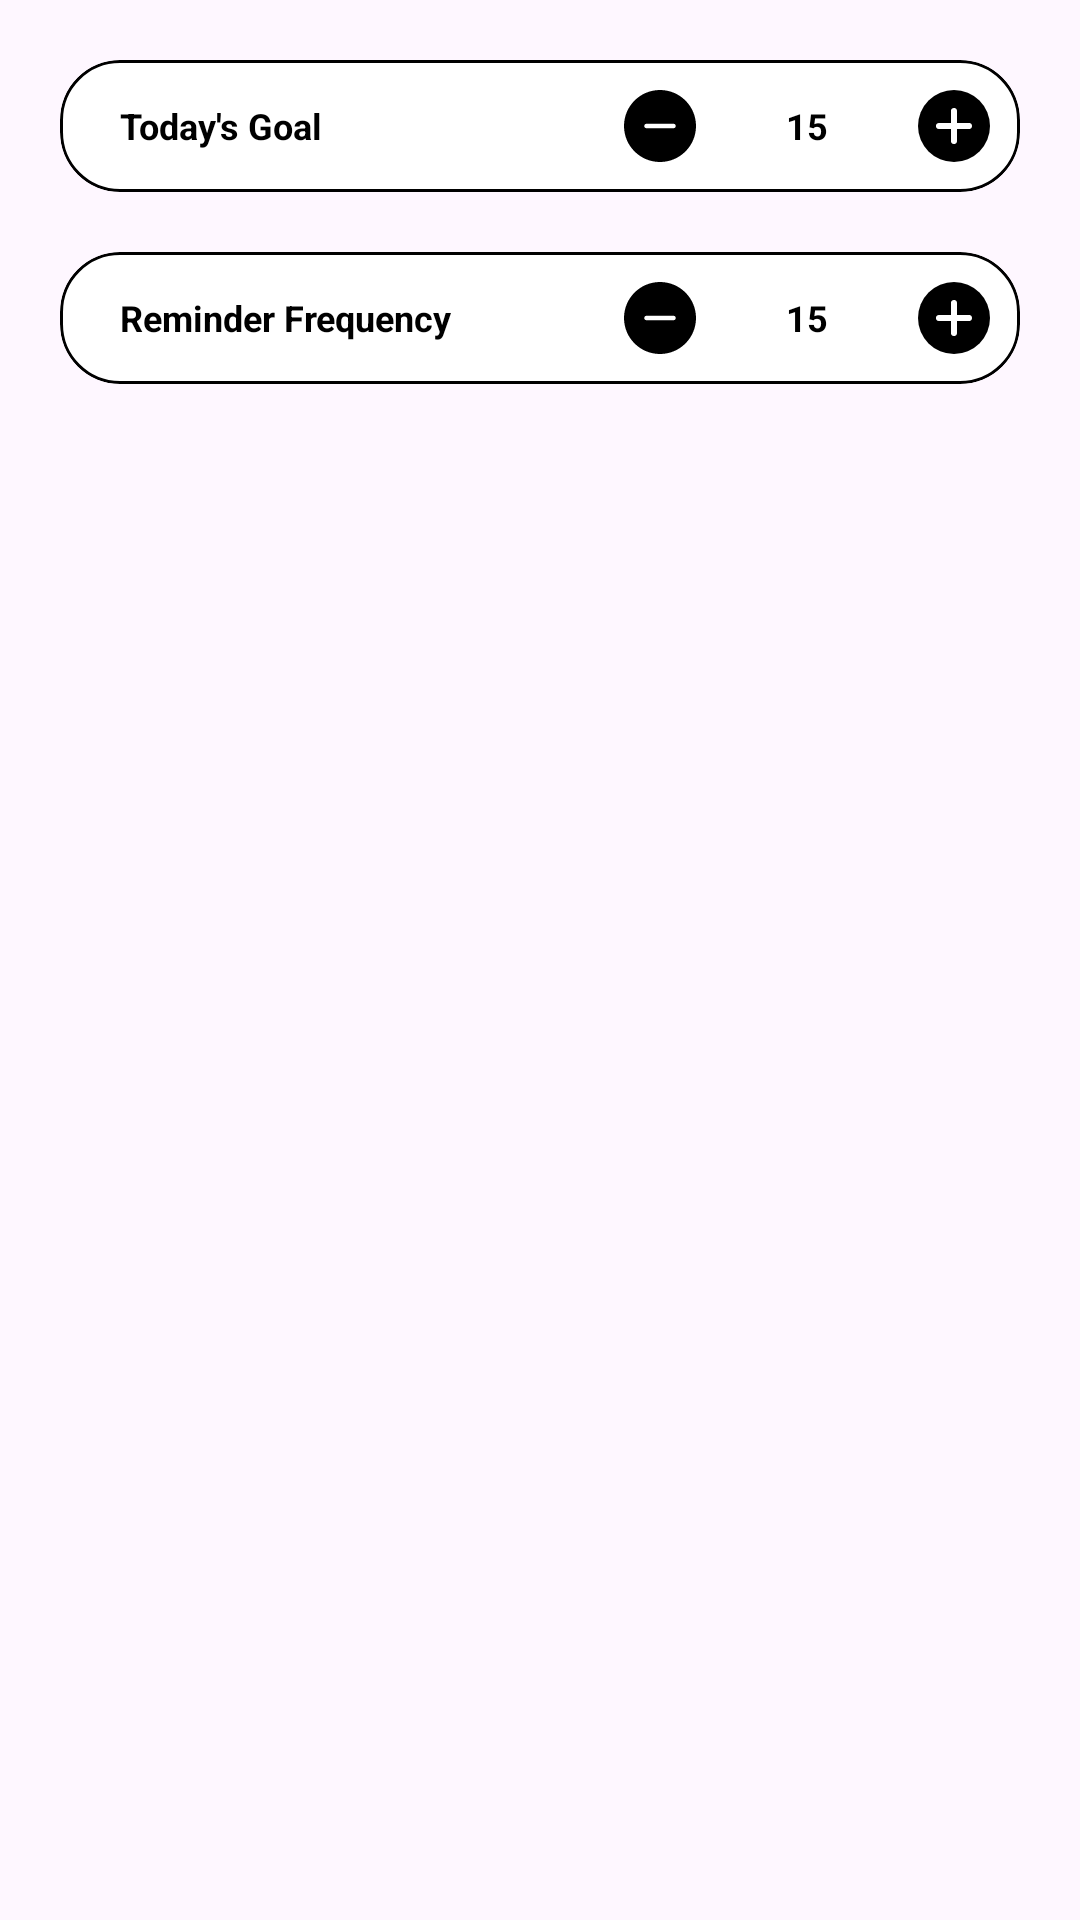

Named icons in this screenshot (1080 x 1920) and their centers, point (x, y):
add: point (954, 126), point (954, 318)
minus circle: point (660, 126), point (660, 318)
